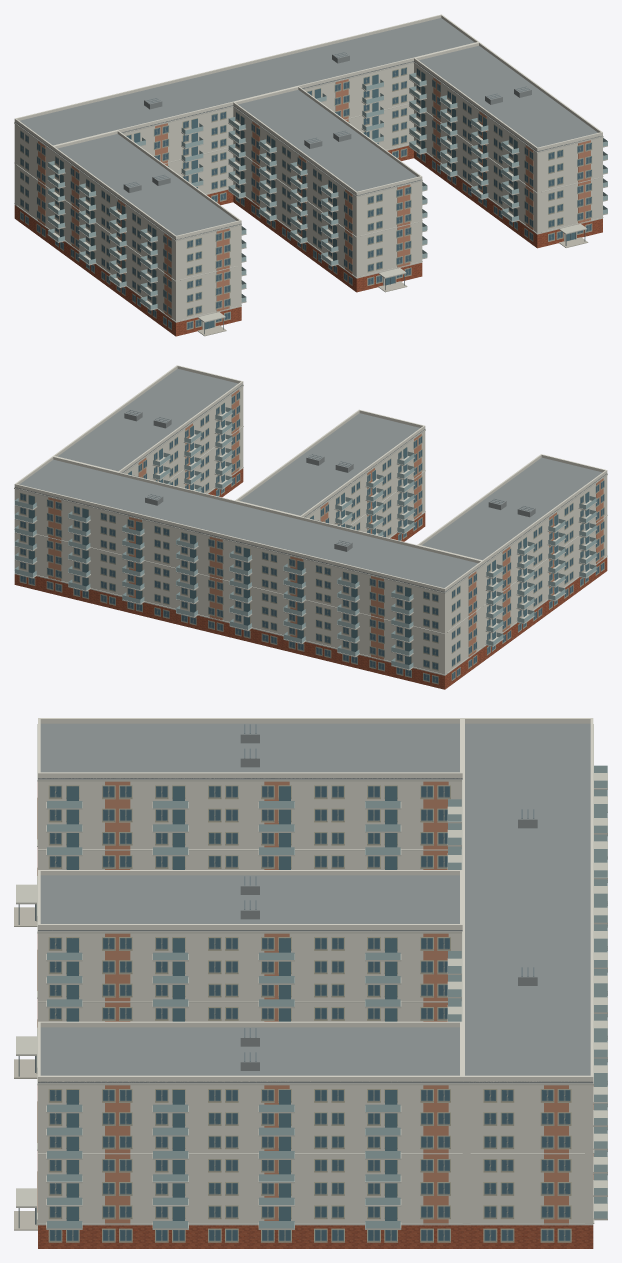
Rendered from apartment-complex-01.glb.
3 views of the same model, one above another, from view 1: azimuth 30°, elevation 25°; view 2: azimuth 150°, elevation 25°; view 3: azimuth 270°, elevation 25° (orthographic). The views are drawn at different scales.
Parts seen in each view (by area): view 1: North spine.Walls, North rear facade.Windows, North rear facade.Balcony guards, North spine.Base; view 2: North spine.Walls, North rear facade.Windows, North rear facade.Balcony guards, North spine.Base; view 3: North spine.Walls, North rear facade.Windows, North rear facade.Balcony guards, North spine.Base.
Part boxes in pixels (<box>): North spine.Walls: <box>14,14,607,336</box>; North rear facade.Windows: <box>20,67,592,329</box>; North rear facade.Balcony guards: <box>48,72,607,309</box>; North spine.Base: <box>14,145,602,336</box>; North spine.Walls: <box>14,365,607,675</box>; North rear facade.Windows: <box>19,391,604,684</box>; North rear facade.Balcony guards: <box>14,407,596,669</box>; North spine.Base: <box>14,468,607,689</box>; North spine.Walls: <box>14,718,607,1230</box>; North rear facade.Windows: <box>48,785,571,1242</box>; North rear facade.Balcony guards: <box>47,765,607,1228</box>; North spine.Base: <box>38,1225,593,1248</box>.
Bounding box in the file's own units: 108 × 23.86 × 72.76.
Materials: 4 (4 with a texture image).
